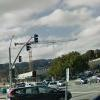Traffic light: (21, 27, 40, 54)
